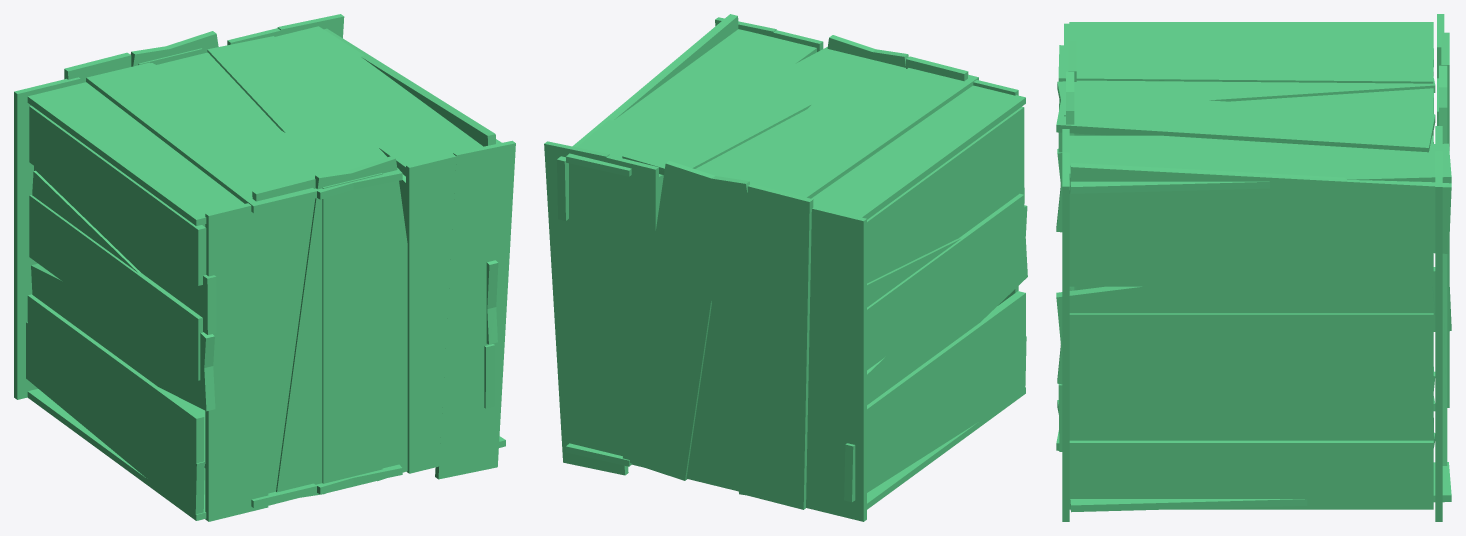
The picture shows the model from 3 angles, left to right: view 1: azimuth 30°, elevation 25°; view 2: azimuth 150°, elevation 25°; view 3: azimuth 270°, elevation 25°; orthographic projection. The views are drawn at different scales.
Visible parts, largest first — view 1: Object.1; view 2: Object.1; view 3: Object.1.
Boxes of the visible parts, <box> form: Object.1: <box>14,14,515,521</box>; Object.1: <box>544,14,1027,521</box>; Object.1: <box>1056,14,1451,521</box>.
Size of the model in its own units: 4461 by 4340 by 4339.
